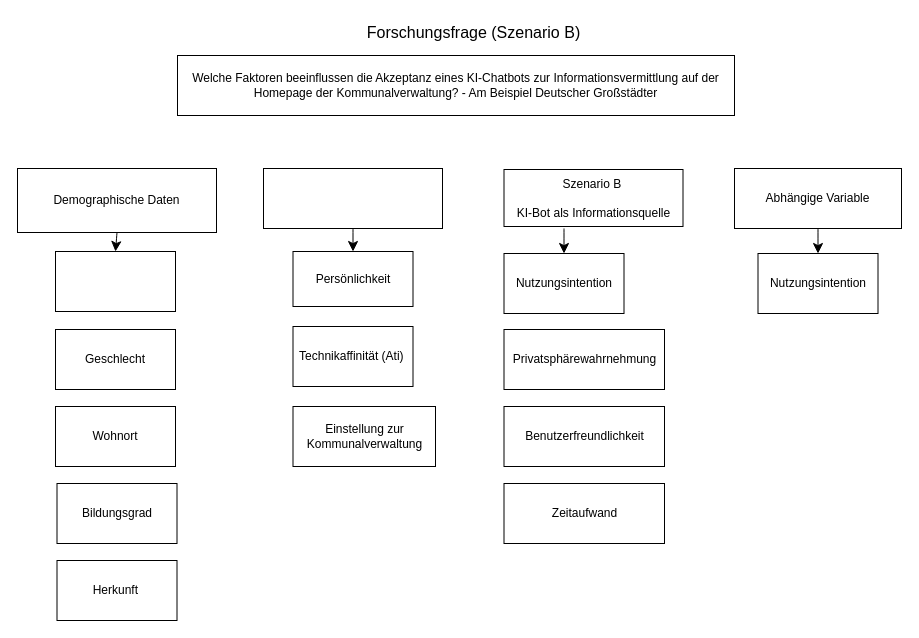
Some shapes in this 919 by 638 pixel diagram are drawn without their labels. The box of each missing label's shape, as (x1, y1, x2, y2) in pixels:
Alter: (54, 250, 176, 312)
Weitere Nutzer:innen Faktoren: (262, 168, 442, 228)
